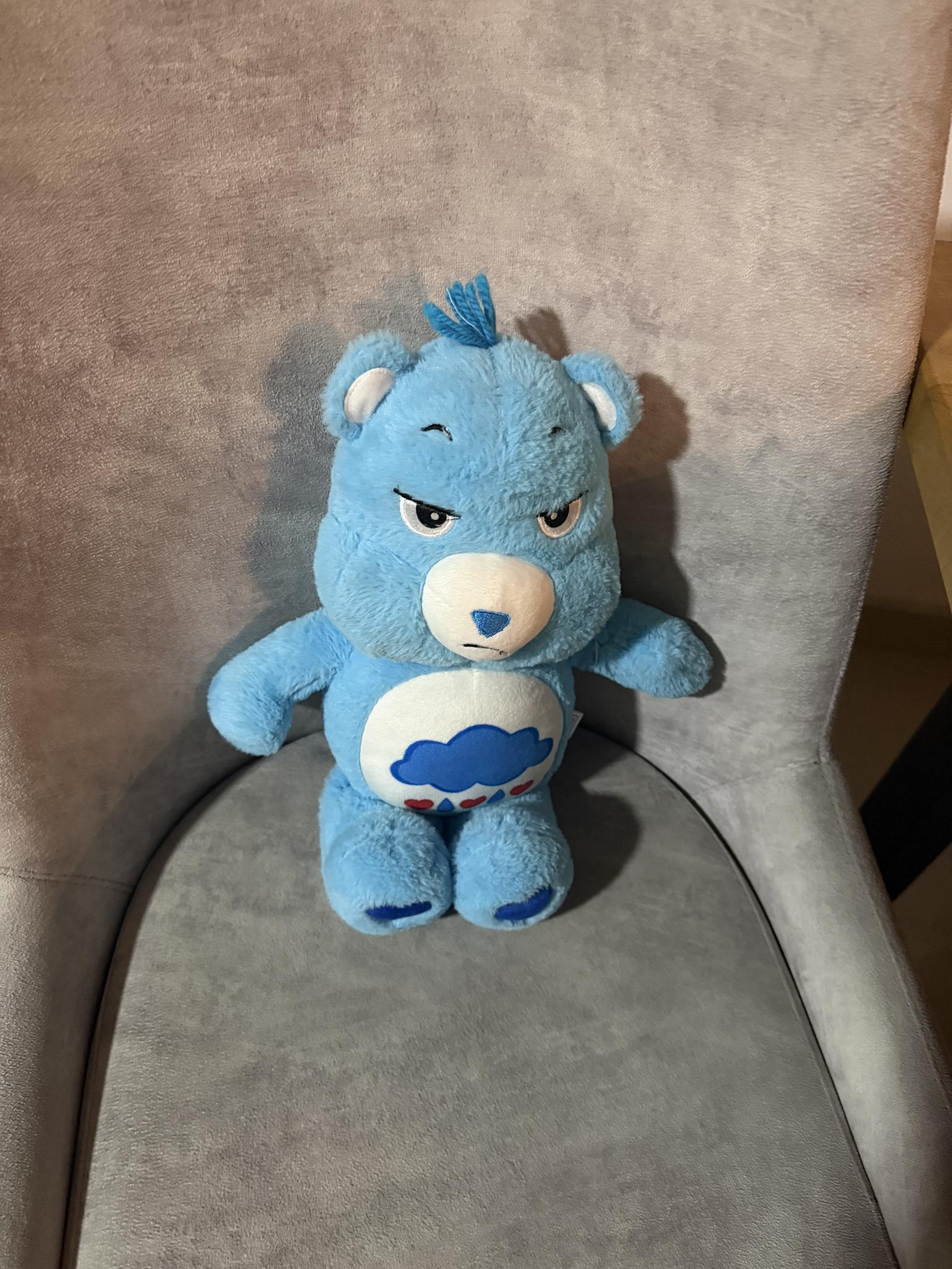peluche_Juan Jose: (198, 295, 736, 929)
